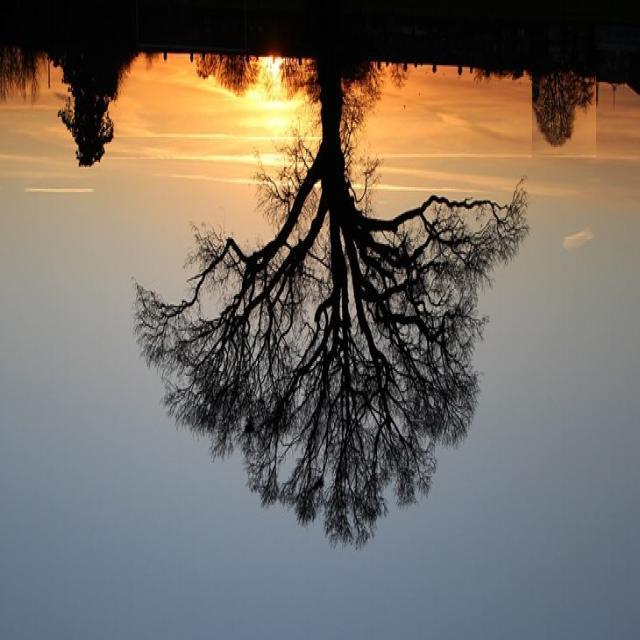tree: (142, 72, 526, 568), (532, 66, 596, 158)
